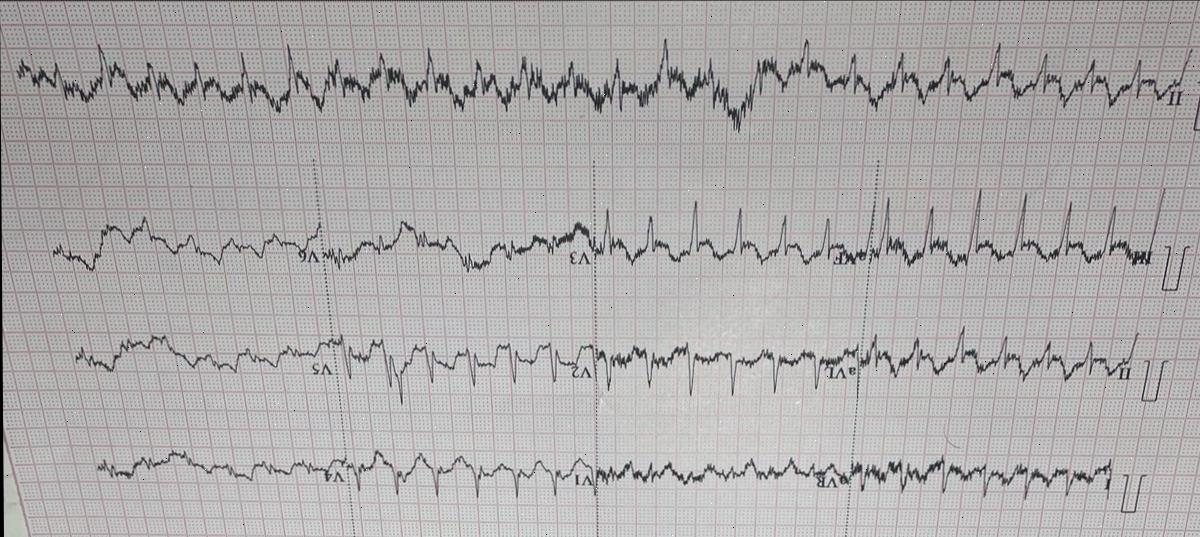Lead_I: (850, 432, 1117, 506)
Lead_II: (856, 316, 1144, 393)
Lead_III: (866, 168, 1168, 280)
Lead_II_ext: (12, 36, 1195, 136)
Lead_V1: (346, 432, 595, 510)
Lead_V2: (334, 307, 595, 408)
Lead_V3: (320, 186, 594, 288)
Lead_V4: (84, 422, 348, 516)
Lead_V5: (61, 315, 337, 397)
Lead_V6: (41, 208, 326, 284)
Lead_aVF: (593, 190, 871, 286)
Lead_aVL: (592, 319, 857, 404)
Lead_aVR: (595, 432, 852, 507)
